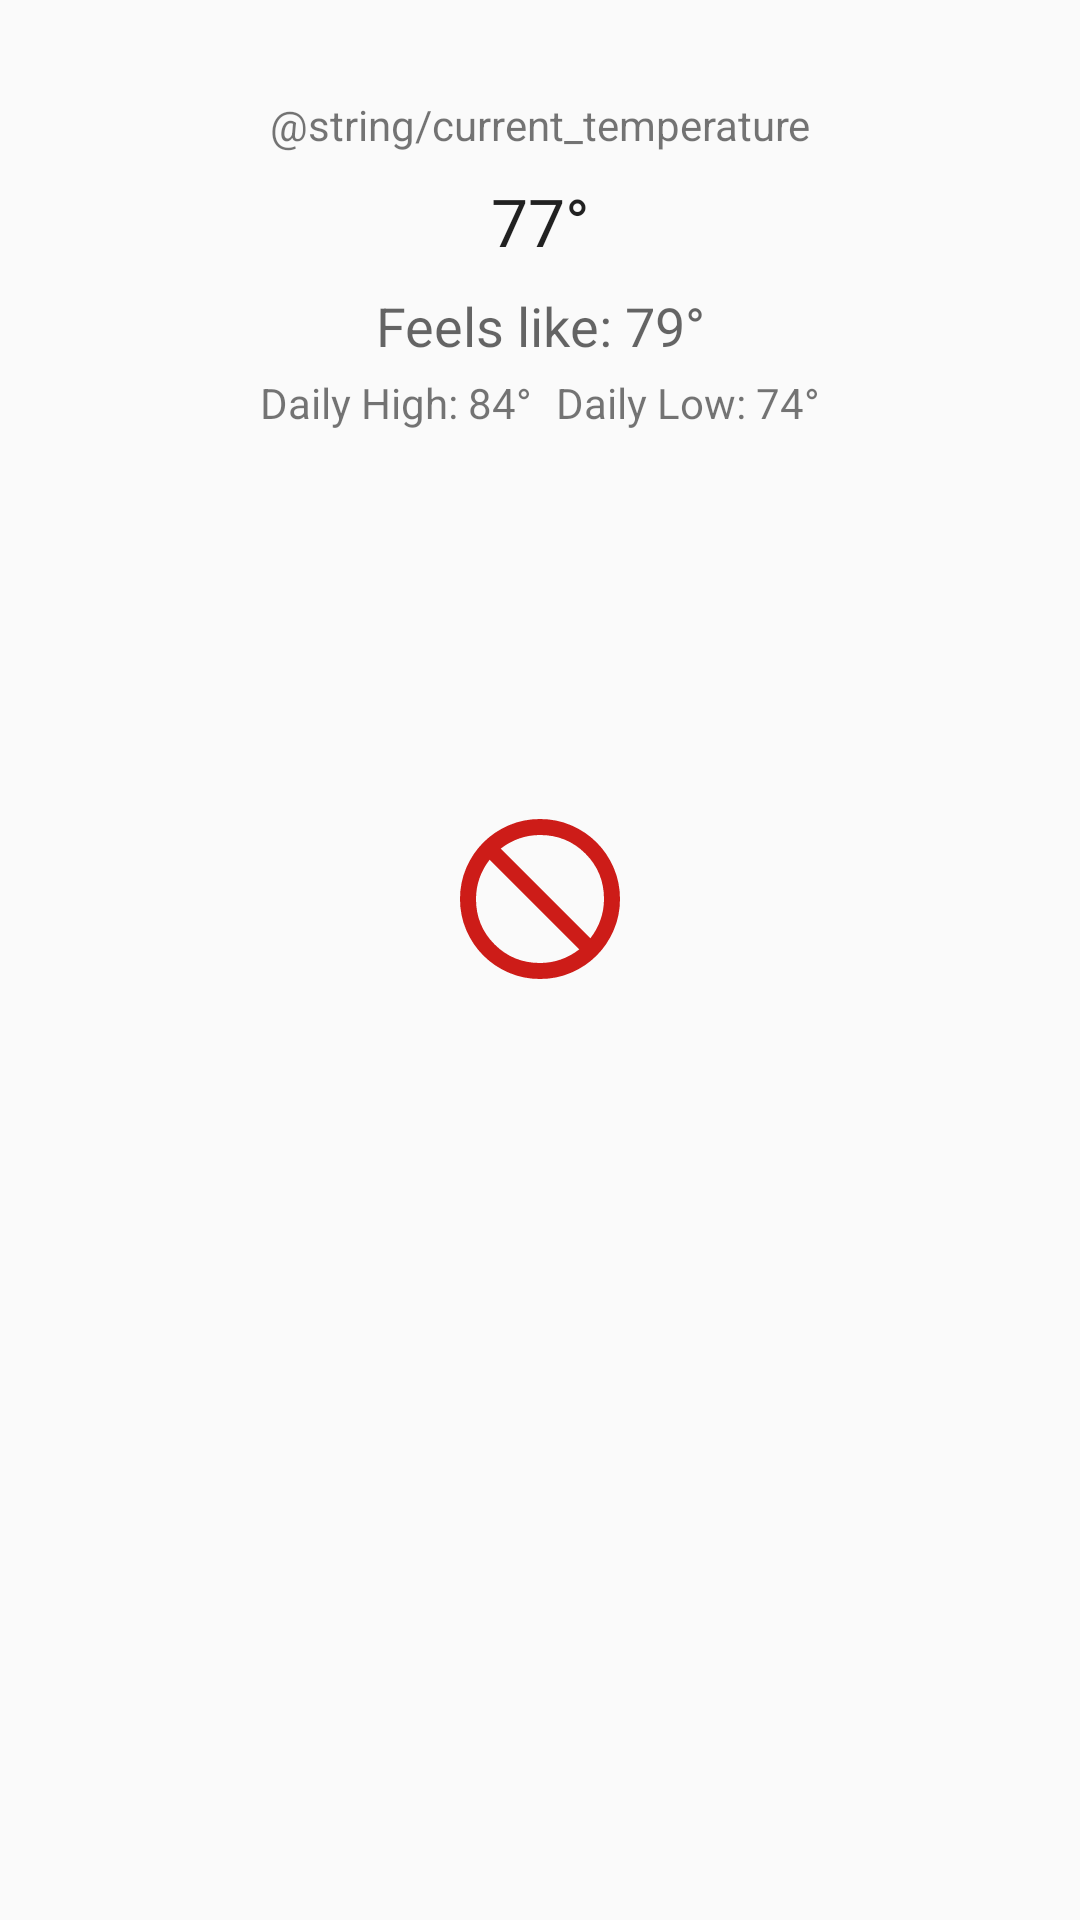

Named icons in this screenshot (1080x1920) and their centers, [x,y]:
block: [540,899]
